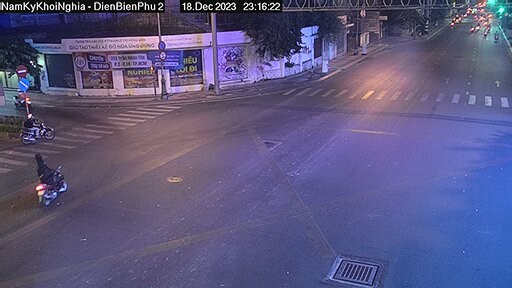motorbike: (19, 156, 68, 208), (14, 114, 53, 148), (8, 90, 36, 107)
